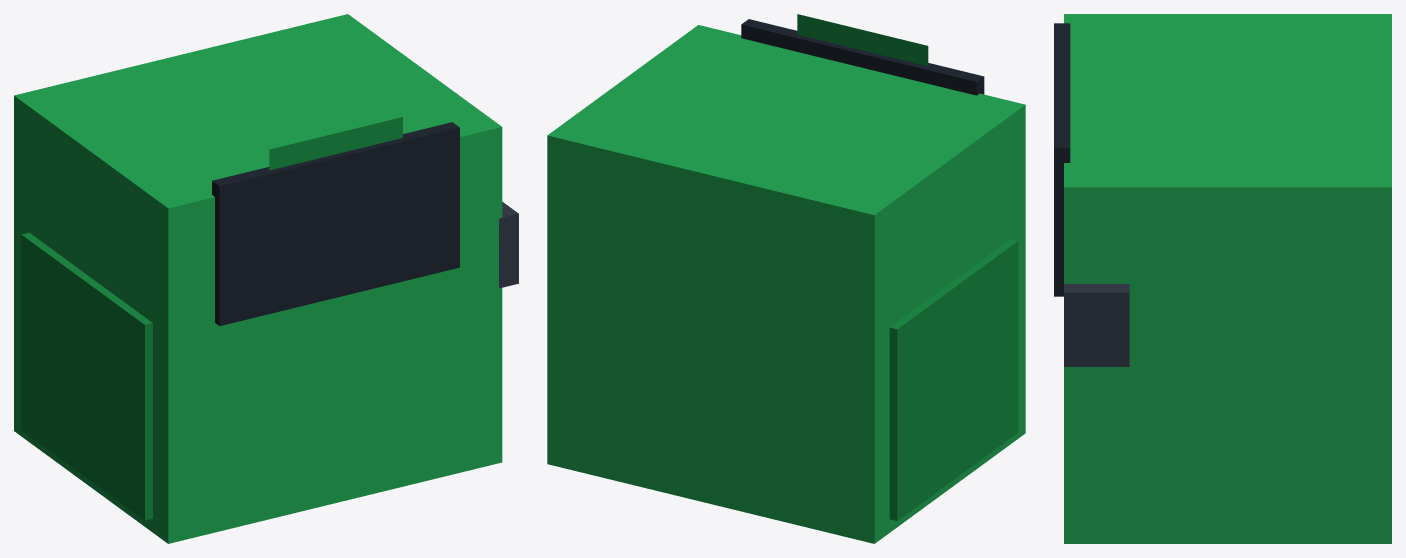
Rendered from yard-compactor-body-authored-vertex-colour-tripo-finish.glb.
3 views of the same model, side by side, from view 1: azimuth 30°, elevation 25°; view 2: azimuth 150°, elevation 25°; view 3: azimuth 270°, elevation 25° (orthographic). The views are drawn at different scales.
Parts seen in each view (by area): view 1: Authored shadows false:false; view 2: Authored shadows false:false; view 3: Authored shadows false:false.
Boxes of the visible parts, x1=… form: Authored shadows false:false: x1=14, y1=14, x2=518, y2=543; Authored shadows false:false: x1=547, y1=14, x2=1025, y2=543; Authored shadows false:false: x1=1054, y1=14, x2=1391, y2=543.
Bounding box in the file's own units: 1 × 0.987 × 0.7672.
